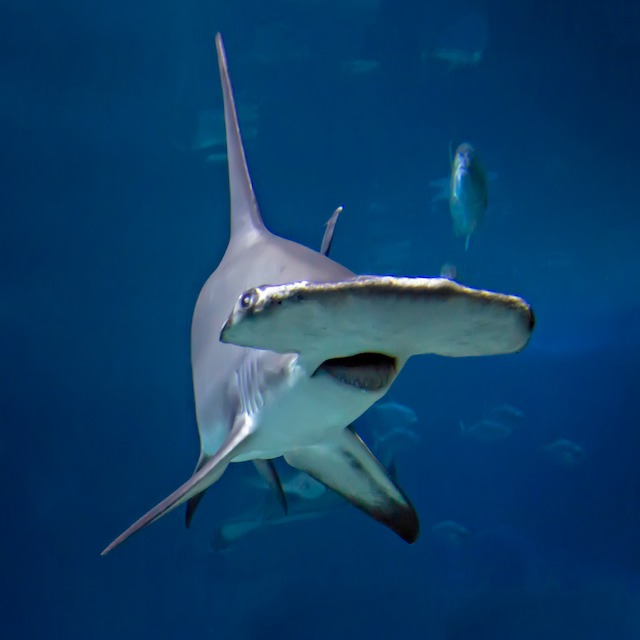hammerhead: (169, 39, 495, 557)
